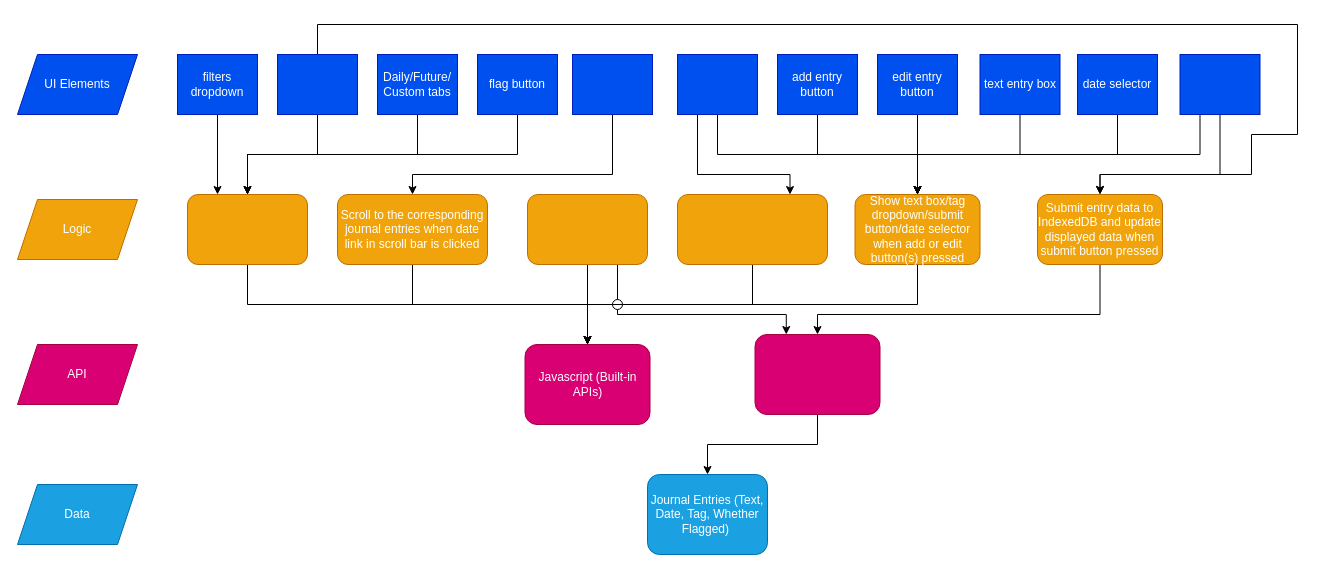
The diagram is 1323 pixels wide and 572 high, and some of its shapes have lost their labels. The centre of each missing label's shape, as x and y in pixels:
Add flag and update view if needed when custom flag buttton pressed: (x=587, y=229)
IndexedDB: (x=817, y=374)
journal entries list: (x=317, y=84)
scroll bar: (x=612, y=84)
Show entries according to current filter selection (default to Daily): (x=247, y=229)
Show list of previously used tags when tag dropdown is engaged: (x=752, y=229)
submit button: (x=1219, y=84)
tag dropdown: (x=717, y=84)
